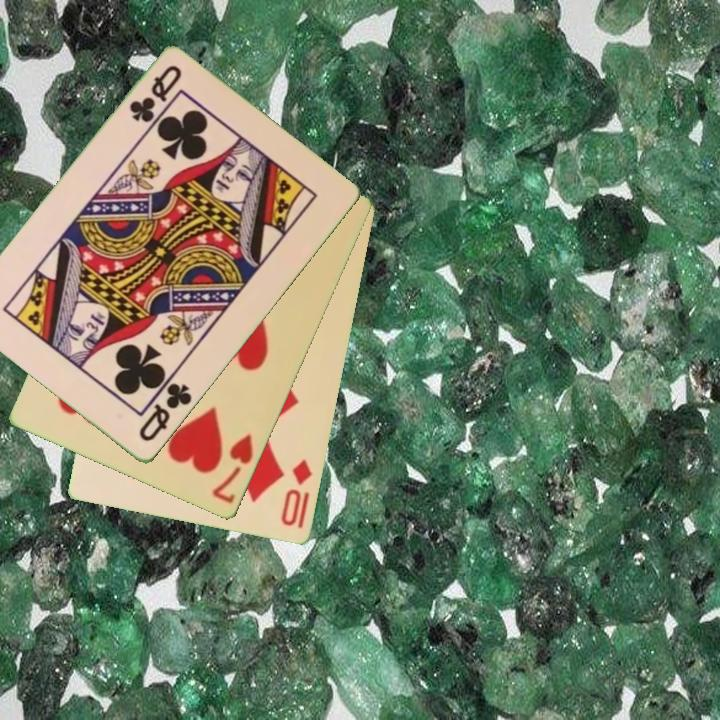10d: (278, 456, 316, 532)
7h: (209, 431, 257, 507)
Qc: (135, 380, 196, 446), (125, 62, 185, 127)
